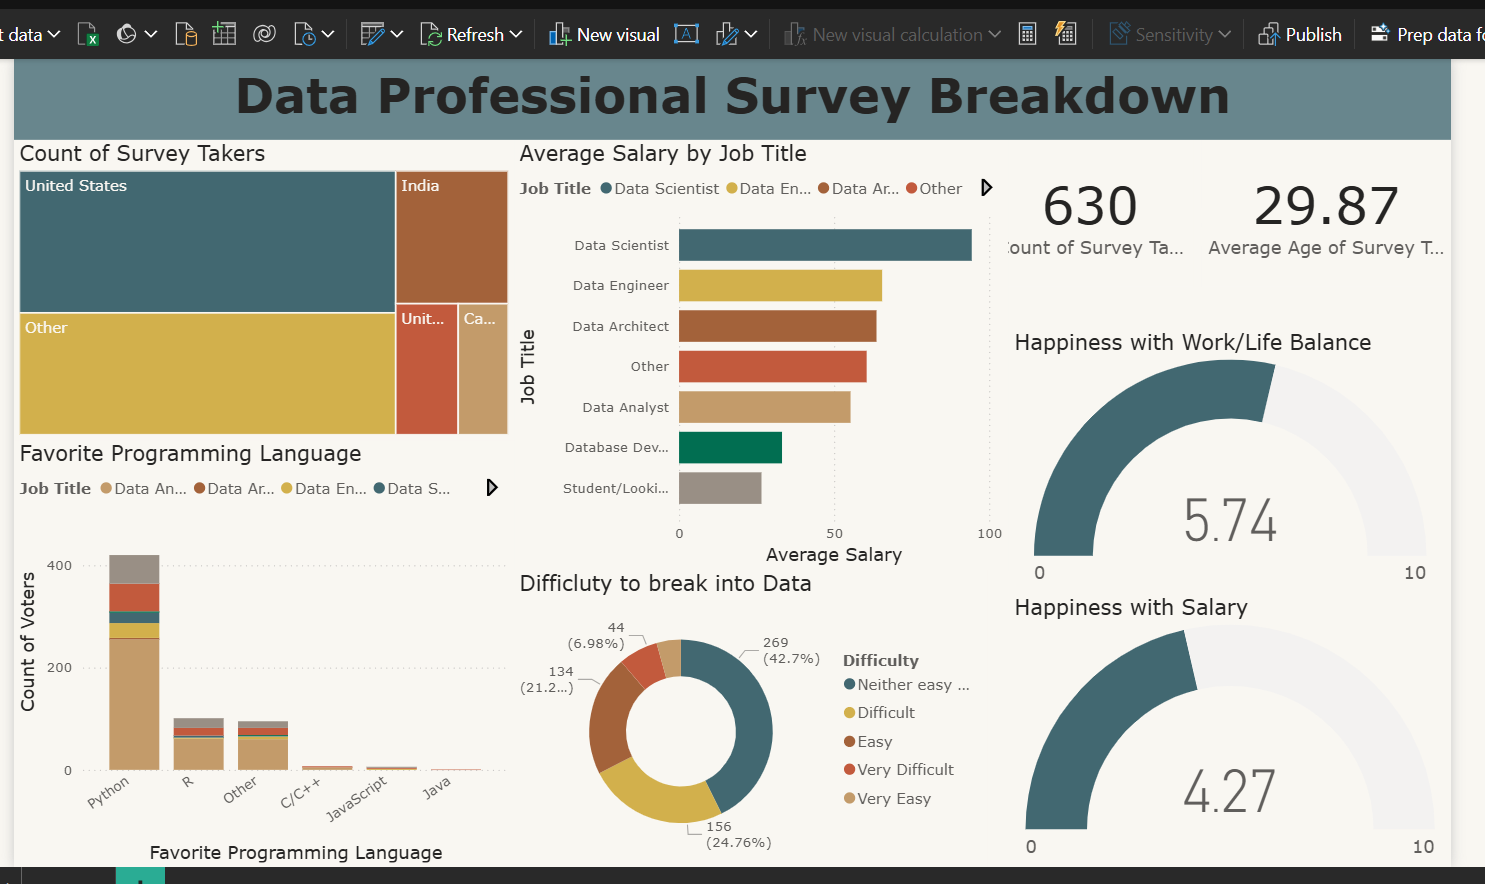

The dashboard page shown, as its layout file describes it:
{"tool":"powerbi","page":{"name":"Page 1","canvas":[1280,720],"ordinal":0},"visuals":[{"type":"textbox","box":[0,0,1280,72.1],"z":0},{"type":"card","fields":{"Values":["Count(Data Professional Survey.Unique ID)"]},"box":[867,72.1,182.9,130.6],"z":1000},{"type":"card","fields":{"Values":["Avg(Data Professional Survey.Q10 - Current Age)"]},"box":[1057.4,72.1,222.7,130.6],"z":2000},{"type":"barChart","title":"Average Salary by Job Title","fields":{"Category":["Data Professional Survey.Q1 - Which Title Best Fits your Current Role?.1"],"Y":["Avg(Data Professional Survey.Average Salary)"],"Series":["Data Professional Survey.Q1 - Which Title Best Fits your Current Role?.1"]},"box":[445.3,72.1,440.4,383.1],"z":3000},{"type":"columnChart","title":"Favorite Programming Language","fields":{"Category":["Data Professional Survey.Q5 - Favorite Programming Language.1"],"Y":["CountNonNull(Data Professional Survey.Unique ID)"],"Series":["Data Professional Survey.Q1 - Which Title Best Fits your Current Role?.1"]},"box":[0,339.6,445.3,380.7],"z":4000},{"type":"treemap","title":"Count of Survey Takers","fields":{"Group":["Data Professional Survey.Q11 - Which Country do you live in?.1"],"Values":["CountNonNull(Data Professional Survey.Q11 - Which Country do you live in?.1)"]},"box":[0,72.1,445.3,267.5],"z":5000},{"type":"gauge","title":"Happiness with Salary","fields":{"Y":["Avg(Data Professional Survey.Q6 - How Happy are you in your Current Position with the following? (Salary))"],"MinValue":["Min(Data Professional Survey.Q6 - How Happy are you in your Current Position with the following? (Salary))"],"MaxValue":["Max(Data Professional Survey.Q6 - How Happy are you in your Current Position with the following? (Salary))"]},"box":[885.7,476.4,394.3,243.8],"z":6000},{"type":"gauge","title":"Happiness with Work/Life Balance","fields":{"Y":["Avg(Data Professional Survey.Q6 - How Happy are you in your Current Position with the following? (Work/Life Balance))"],"MinValue":["Min(Data Professional Survey.Q6 - How Happy are you in your Current Position with the following? (Work/Life Balance))"],"MaxValue":["Max(Data Professional Survey.Q6 - How Happy are you in your Current Position with the following? (Work/Life Balance))"]},"box":[885.7,240.1,394.3,236.4],"z":7000},{"type":"donutChart","title":"Difficluty to break into Data","fields":{"Category":["Data Professional Survey.Q7 - How difficult was it for you to break into Data?"],"Y":["CountNonNull(Data Professional Survey.Q7 - How difficult was it for you to break into Data?)"]},"box":[445.3,455.3,421.7,265],"z":8000}]}

Visuals, with their boxes on the page's 1280x720 design canvas (x1, y1, x2, y2). These are canvas units, not pixel positions in the 1485x884 screenshot, which may show the page scaled, cropped or inside an application window:
textbox: 0/0/1280/72
card - Count(Data Professional Survey.Unique ID): 867/72/1050/203
card - Avg(Data Professional Survey.Q10 - Current Age): 1057/72/1280/203
"Average Salary by Job Title" barChart: 445/72/886/455
"Favorite Programming Language" columnChart: 0/340/445/720
"Count of Survey Takers" treemap: 0/72/445/340
"Happiness with Salary" gauge: 886/476/1280/720
"Happiness with Work/Life Balance" gauge: 886/240/1280/476
"Difficluty to break into Data" donutChart: 445/455/867/720
